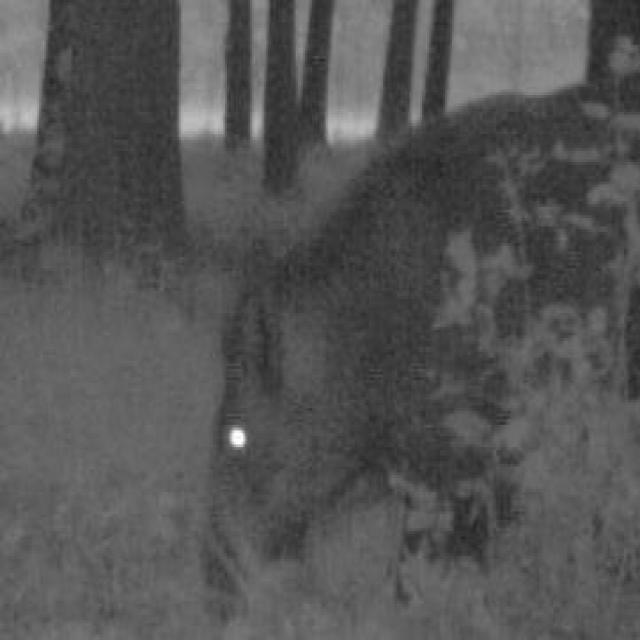pig: (155, 56, 640, 608)
